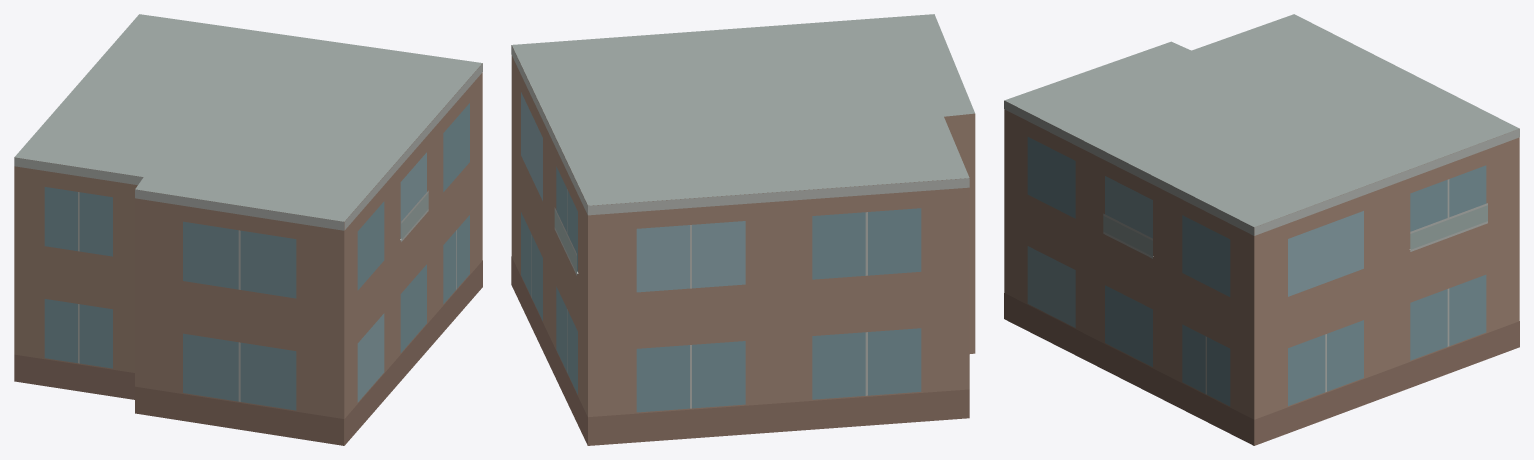
File: survey-upis-32920857.glb
3 views of the same model, side by side, from view 1: azimuth 30°, elevation 25°; view 2: azimuth 150°, elevation 25°; view 3: azimuth 270°, elevation 25° (orthographic). The views are drawn at different scales.
Parts seen in each view (by area): view 1: survey-upis-32920857.tmp; view 2: survey-upis-32920857.tmp; view 3: survey-upis-32920857.tmp.
Part boxes in pixels (x1=…): survey-upis-32920857.tmp: x1=14, y1=14, x2=482, y2=445; survey-upis-32920857.tmp: x1=511, y1=14, x2=975, y2=445; survey-upis-32920857.tmp: x1=1004, y1=14, x2=1519, y2=445.
Size of the model in its own units: 12.77 by 6.1 by 13.05.
